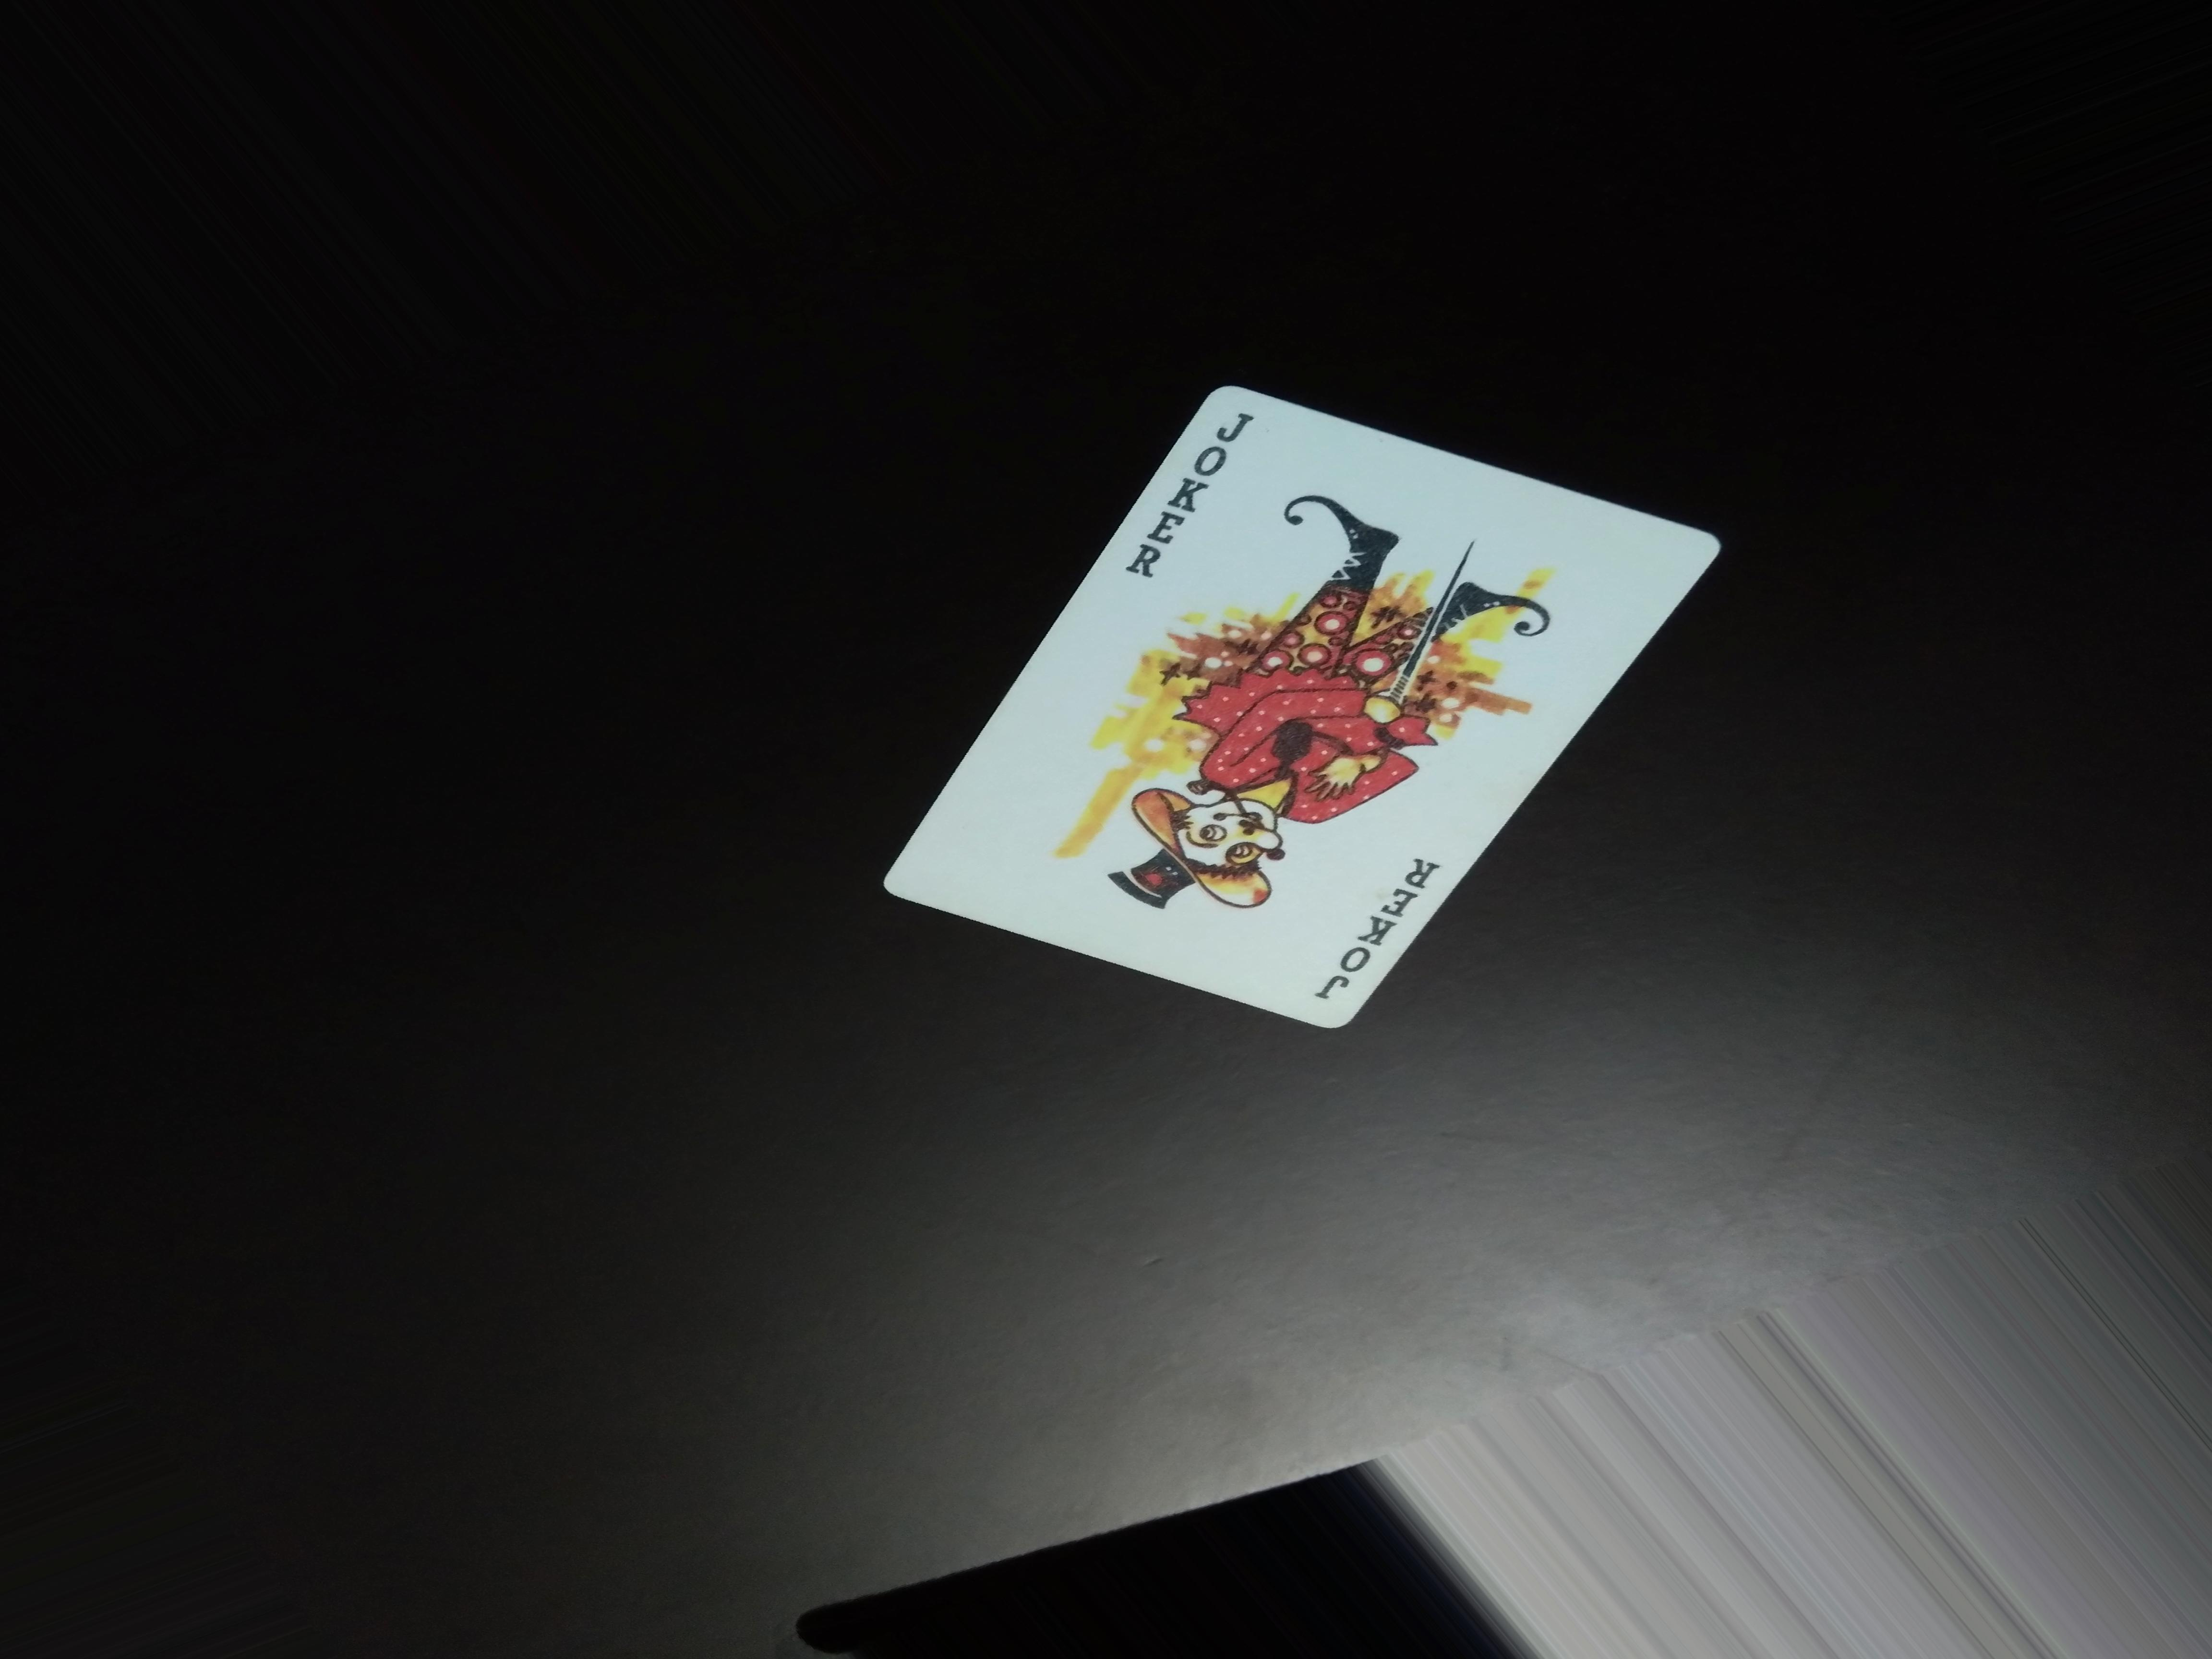JOKER: (1129, 408, 1275, 586)
